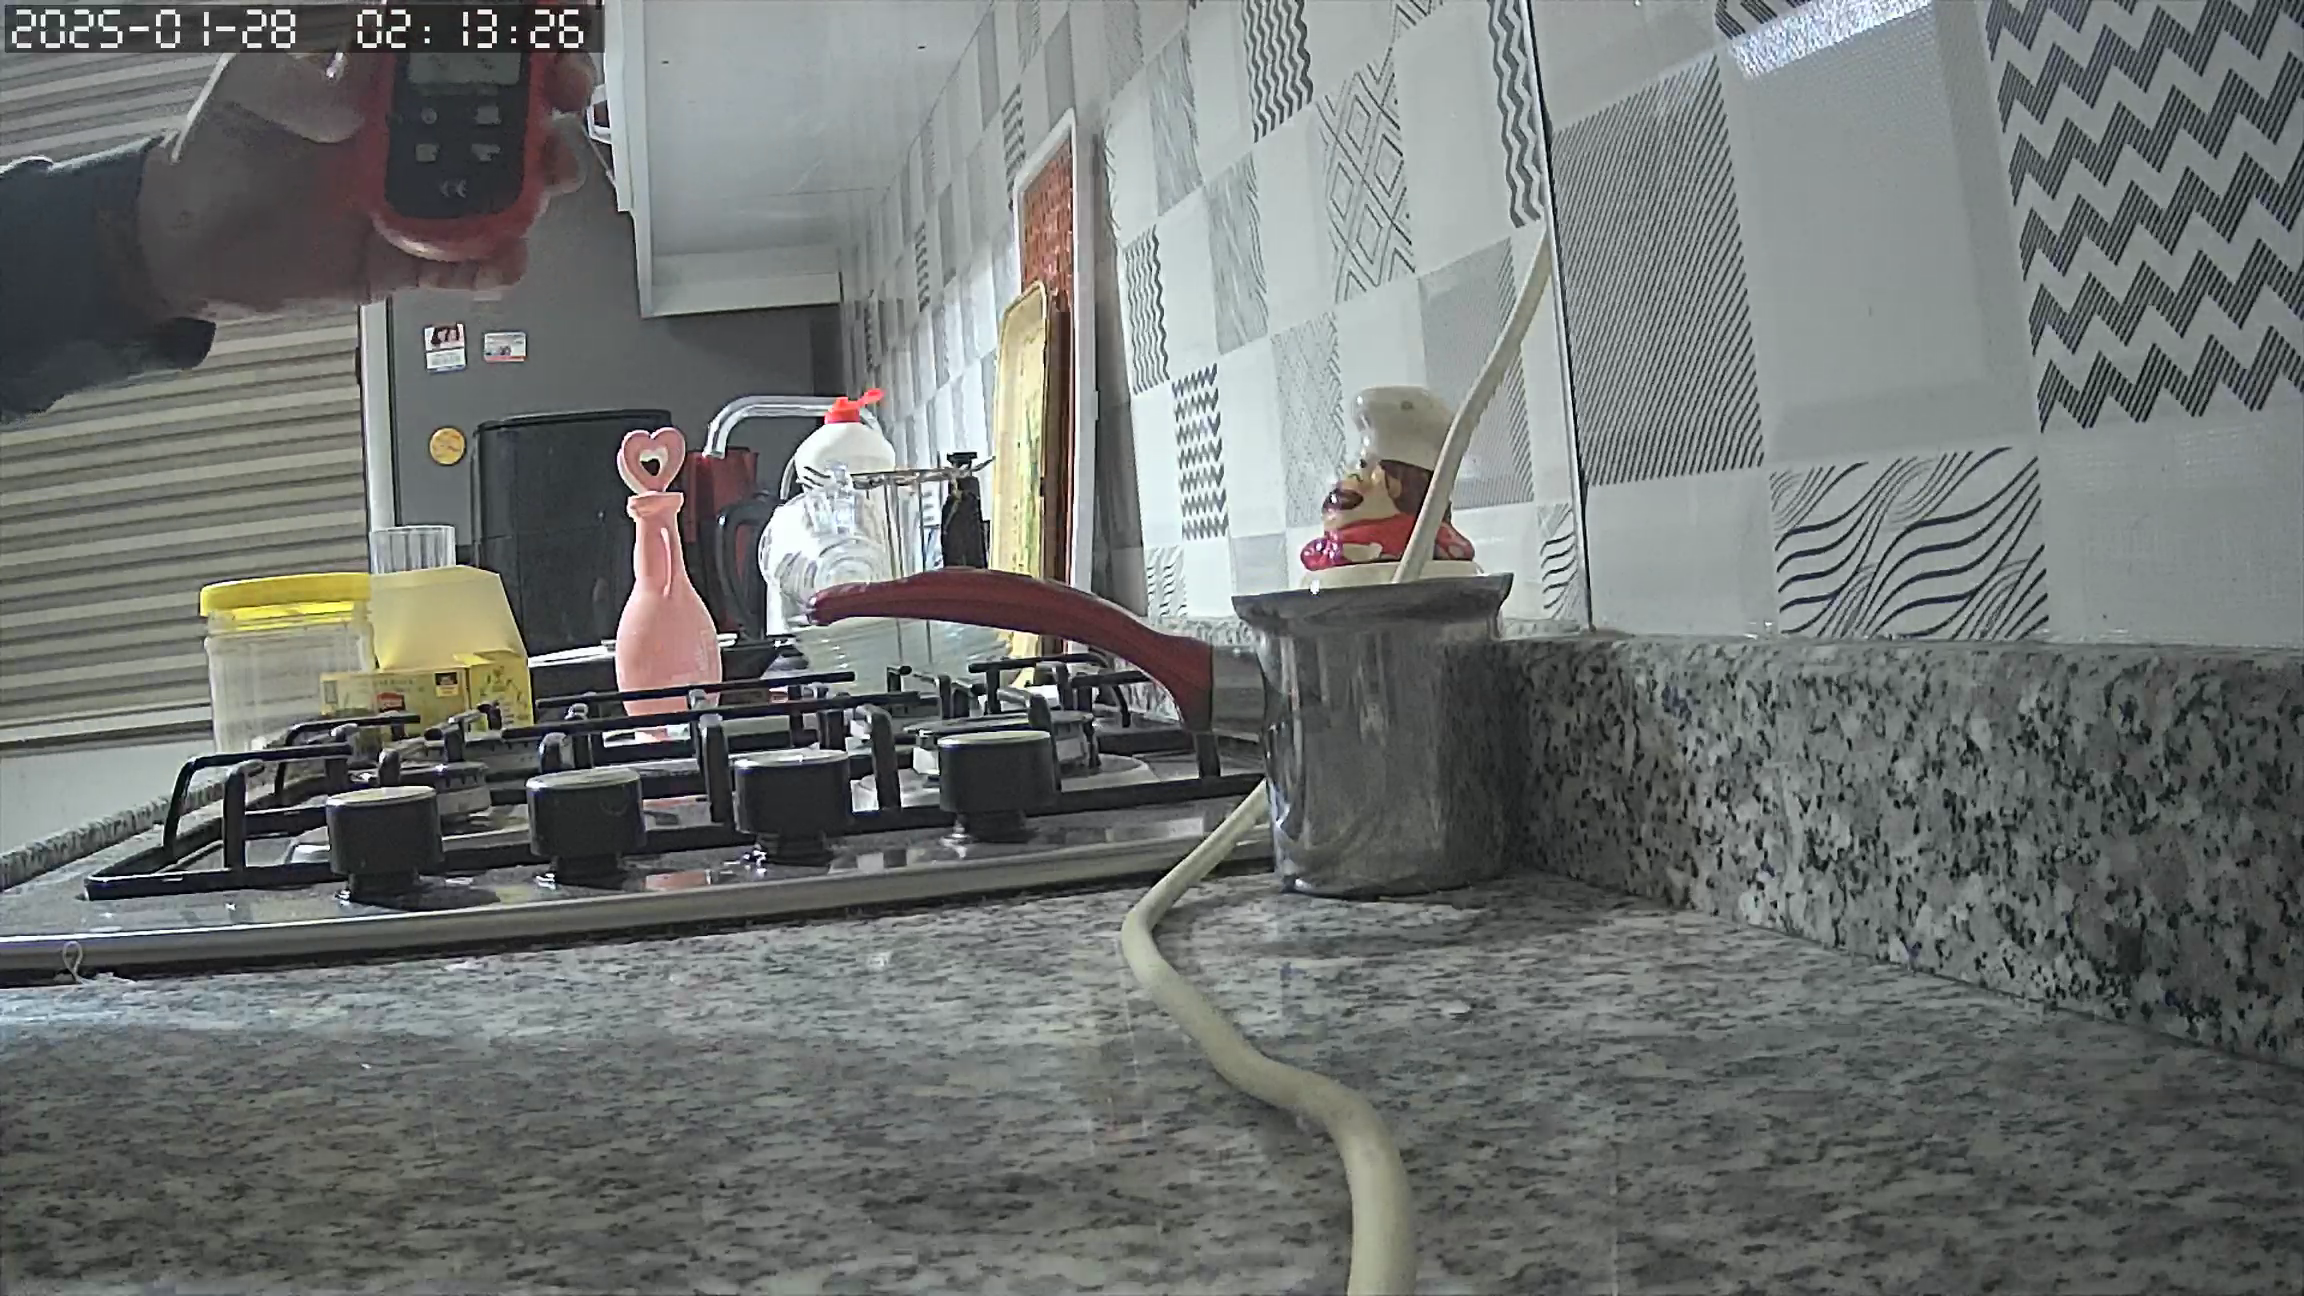screen: (404, 47, 517, 82)
